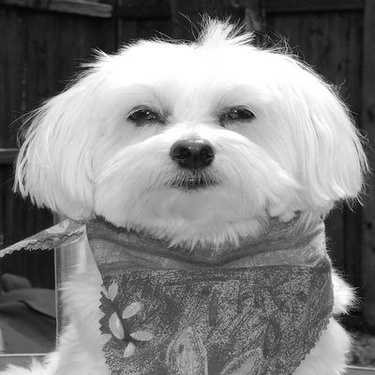dog: (3, 16, 373, 373)
